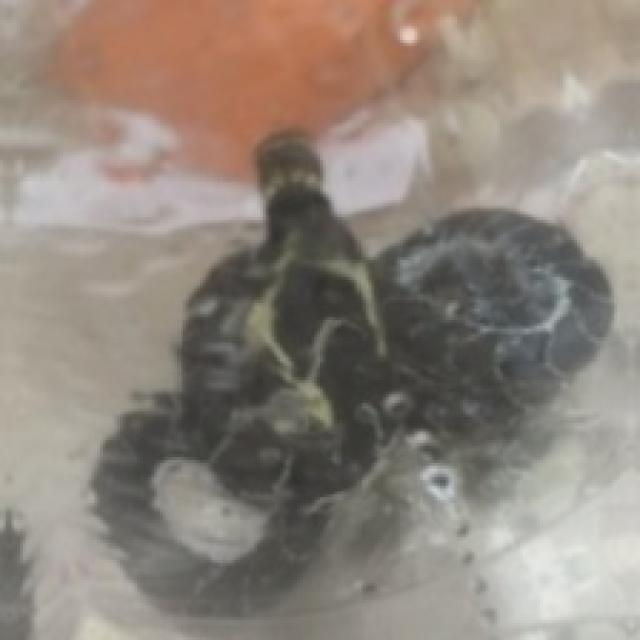king cobra: (83, 131, 637, 637)
